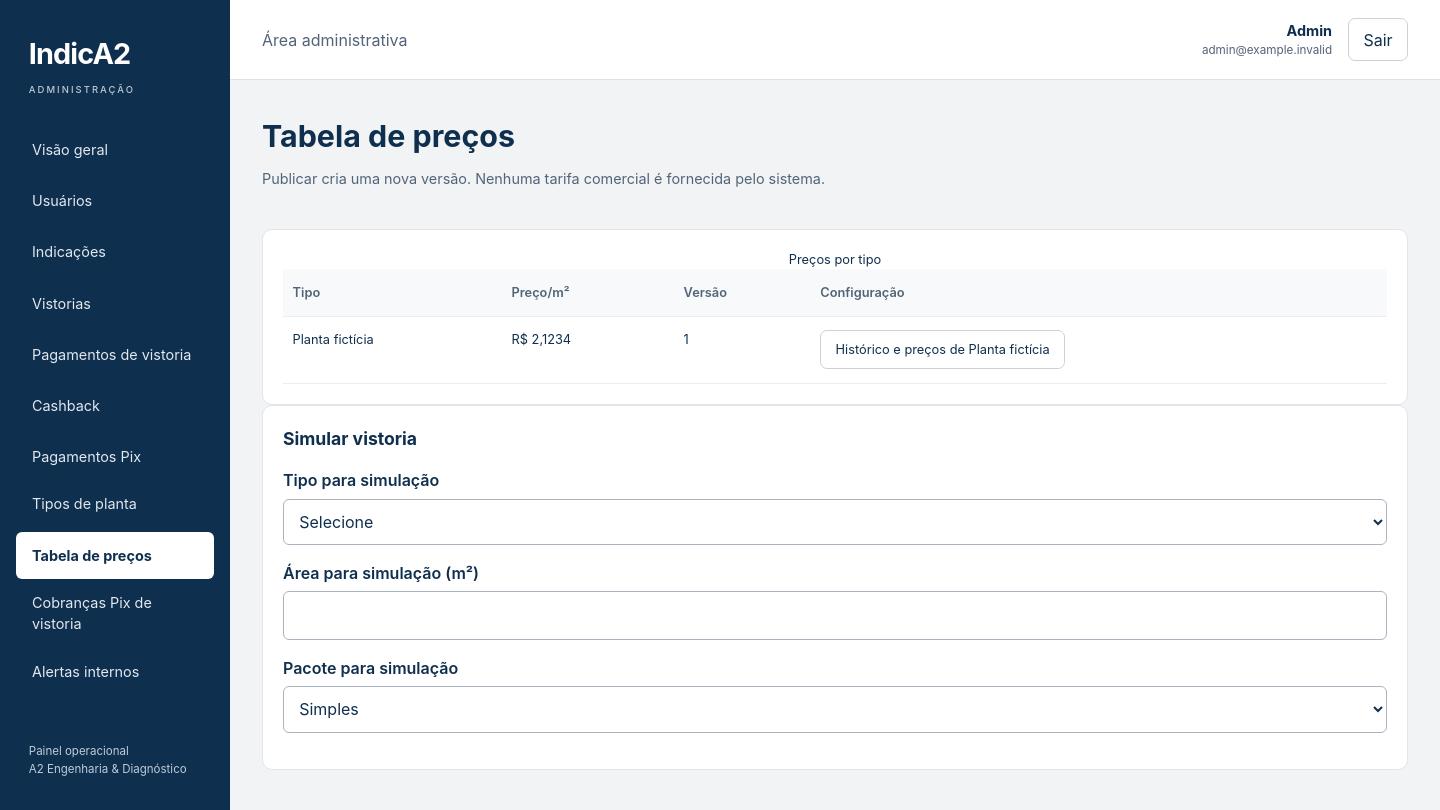
Test: mostra lista ativa e histórico imutável
Click the button "Histórico e preços de Planta fictícia". click: (943, 350)
box: [820,330,1065,369]
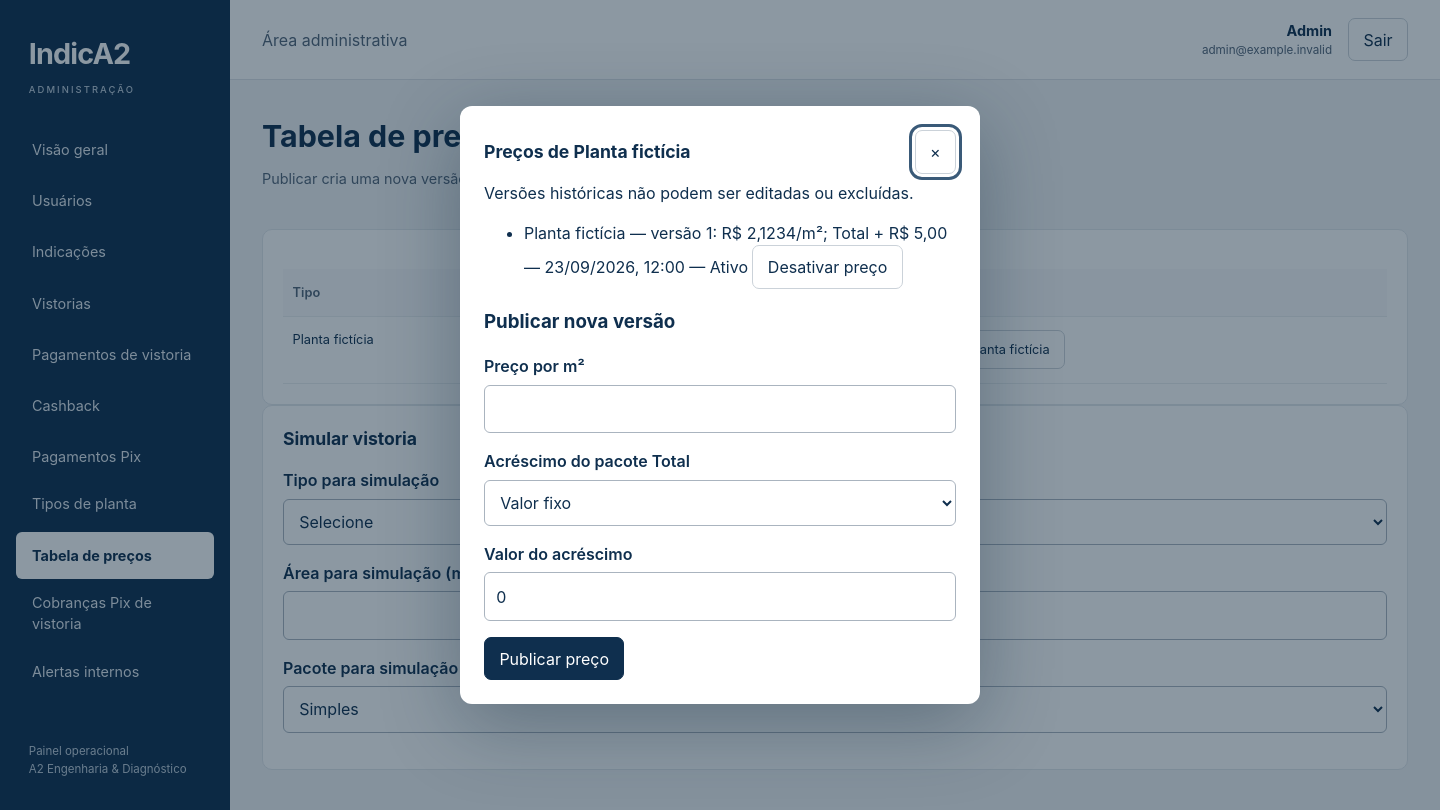
expect the heading "Publicar nova versão" is shown: met, box [484,310,675,333]
expect the text "Versões históricas não podem ser editadas ou excluídas." is shown: met, box [484,181,956,205]
expect the list item "versão 1:" is shown: met, box [524,221,956,289]
